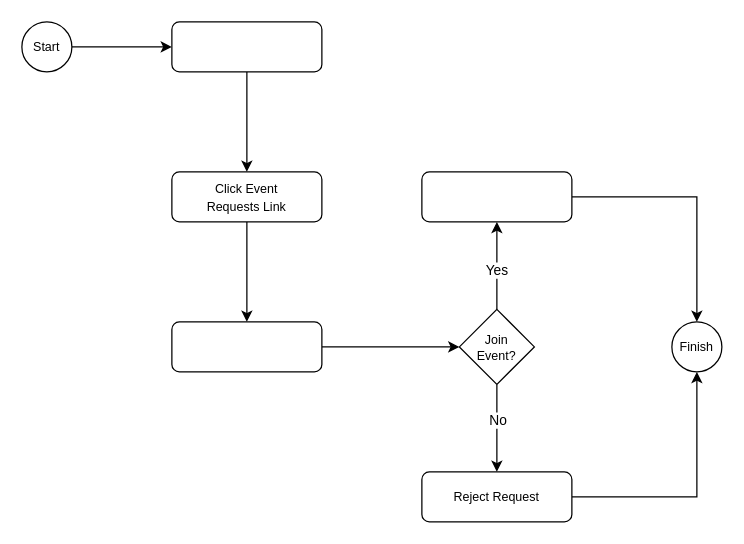
This 744x544 diagram has some shape labels left out. The shapes that lost their labels are listed below. From the top down, each one's centre as x and y in pixels, then its label:
At point (246, 46): "Select Nav Menu".
At point (496, 196): "Accept Request".
At point (246, 346): "Click Individual Request Link".
